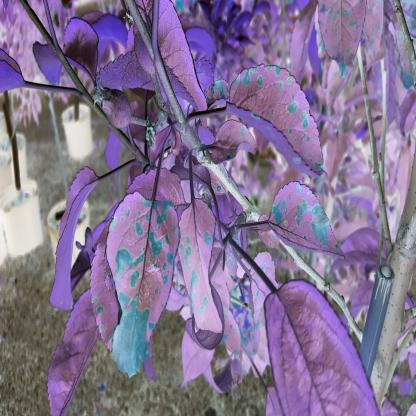apple rust leaf: (100, 188, 184, 388), (222, 60, 340, 187), (179, 197, 234, 342), (270, 182, 347, 265), (314, 1, 372, 85)
